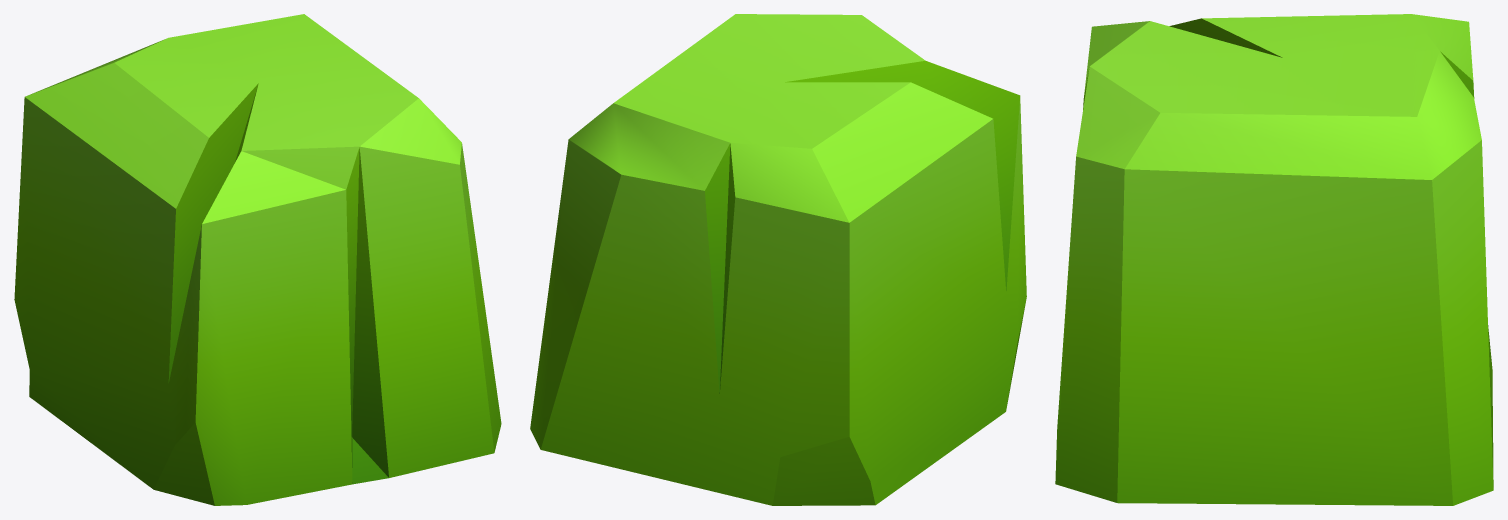
File: rock_green.fbx
3 renders of one model, left to right at view 1: azimuth 30°, elevation 25°; view 2: azimuth 150°, elevation 25°; view 3: azimuth 270°, elevation 25°, orthographic. The views are drawn at different scales.
Visible parts, largest first — view 1: rock_green; view 2: rock_green; view 3: rock_green.
Boxes of the visible parts, left/top/right/bottom form: rock_green: left=14, top=14, right=501, bottom=505; rock_green: left=530, top=14, right=1026, bottom=505; rock_green: left=1055, top=14, right=1493, bottom=505.
Bounding box in the file's own units: 16.92 × 15.83 × 17.61.
